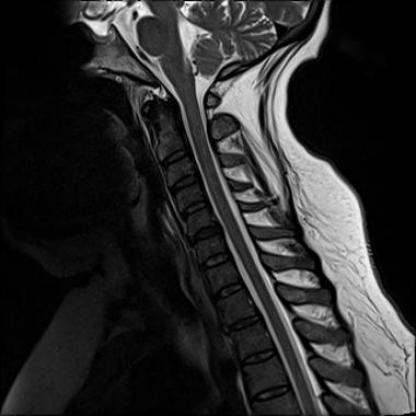Disc Herniationrotation: (185, 226, 223, 244)
Disc Protrusionrotation: (168, 175, 200, 194)
